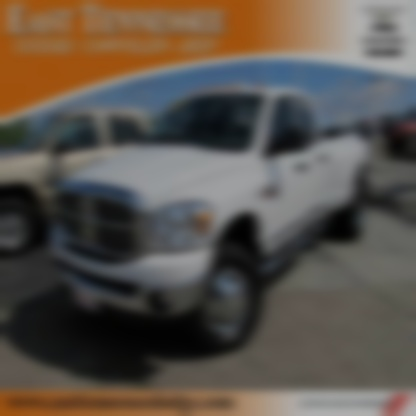Vehicle: (47, 81, 372, 358)
